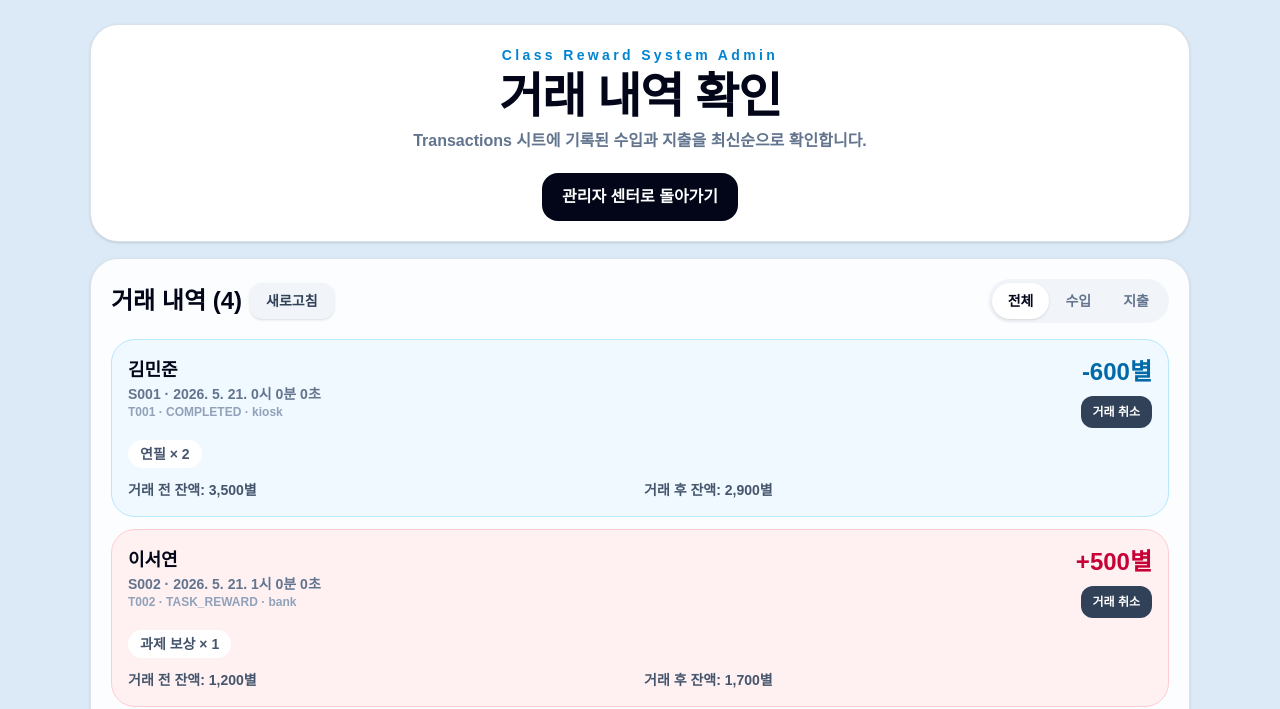
Scenario: TransactionsPage › fails closed for empty pair members without mutating the transaction list
Click the button with aria-label "T001 거래 취소" at (1116, 412), box [1080,396,1152,428]
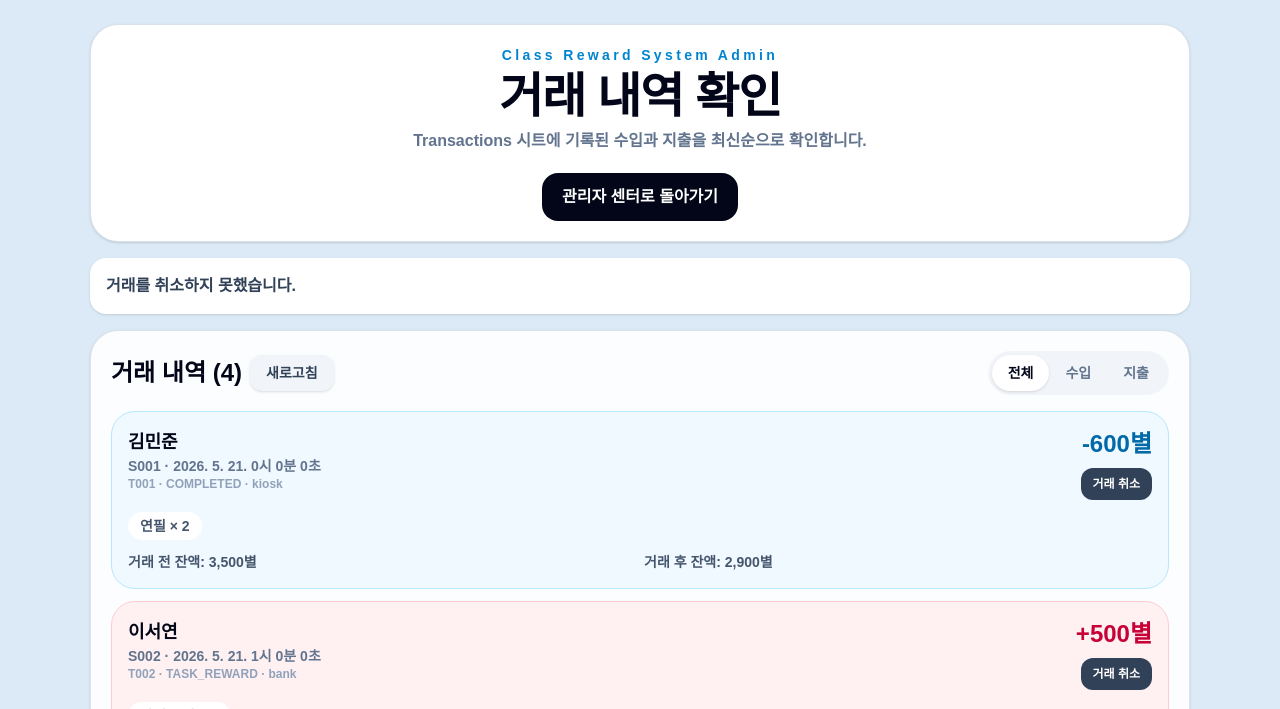
Expected: the button with aria-label "T001 거래 취소" is shown, [1080,468,1152,500]
Expected: the text "거래를 취소하지 못했습니다." is shown, [90,258,1190,314]
